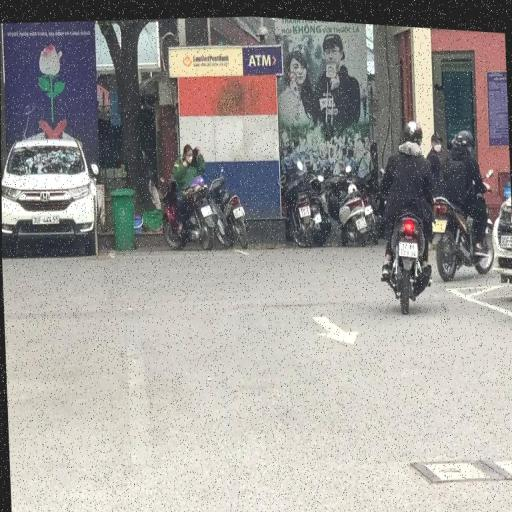bike: (374, 112, 438, 312), (427, 118, 498, 280)
numberplate: (397, 232, 418, 256), (432, 210, 446, 228), (298, 199, 312, 214), (232, 201, 245, 217), (355, 210, 367, 226), (200, 202, 212, 216)
with helmet: (399, 113, 423, 142), (452, 121, 474, 147)
